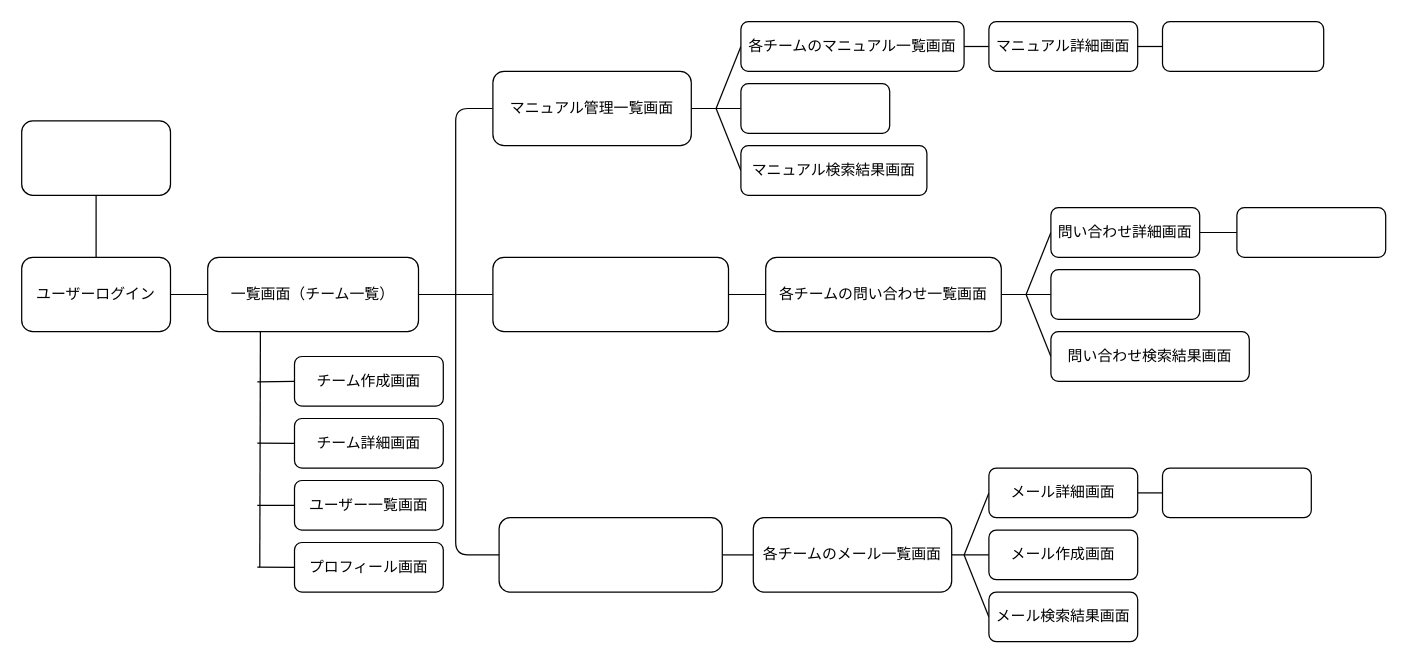
Some shapes in this 1407 by 663 pixel diagram are drawn without their labels. Each missing label, with the centre of its shape:
サインアップ: pixel 95 157
マニュアル作成画面: pixel 815 107
マニュアル編集画面: pixel 1242 45
メール管理チーム選択画面: pixel 610 554
メール編集画面: pixel 1236 492
問い合わせ作成画面: pixel 1125 293
問い合わせ管理チーム選択画面: pixel 610 294
問い合わせ編集画面: pixel 1311 231
